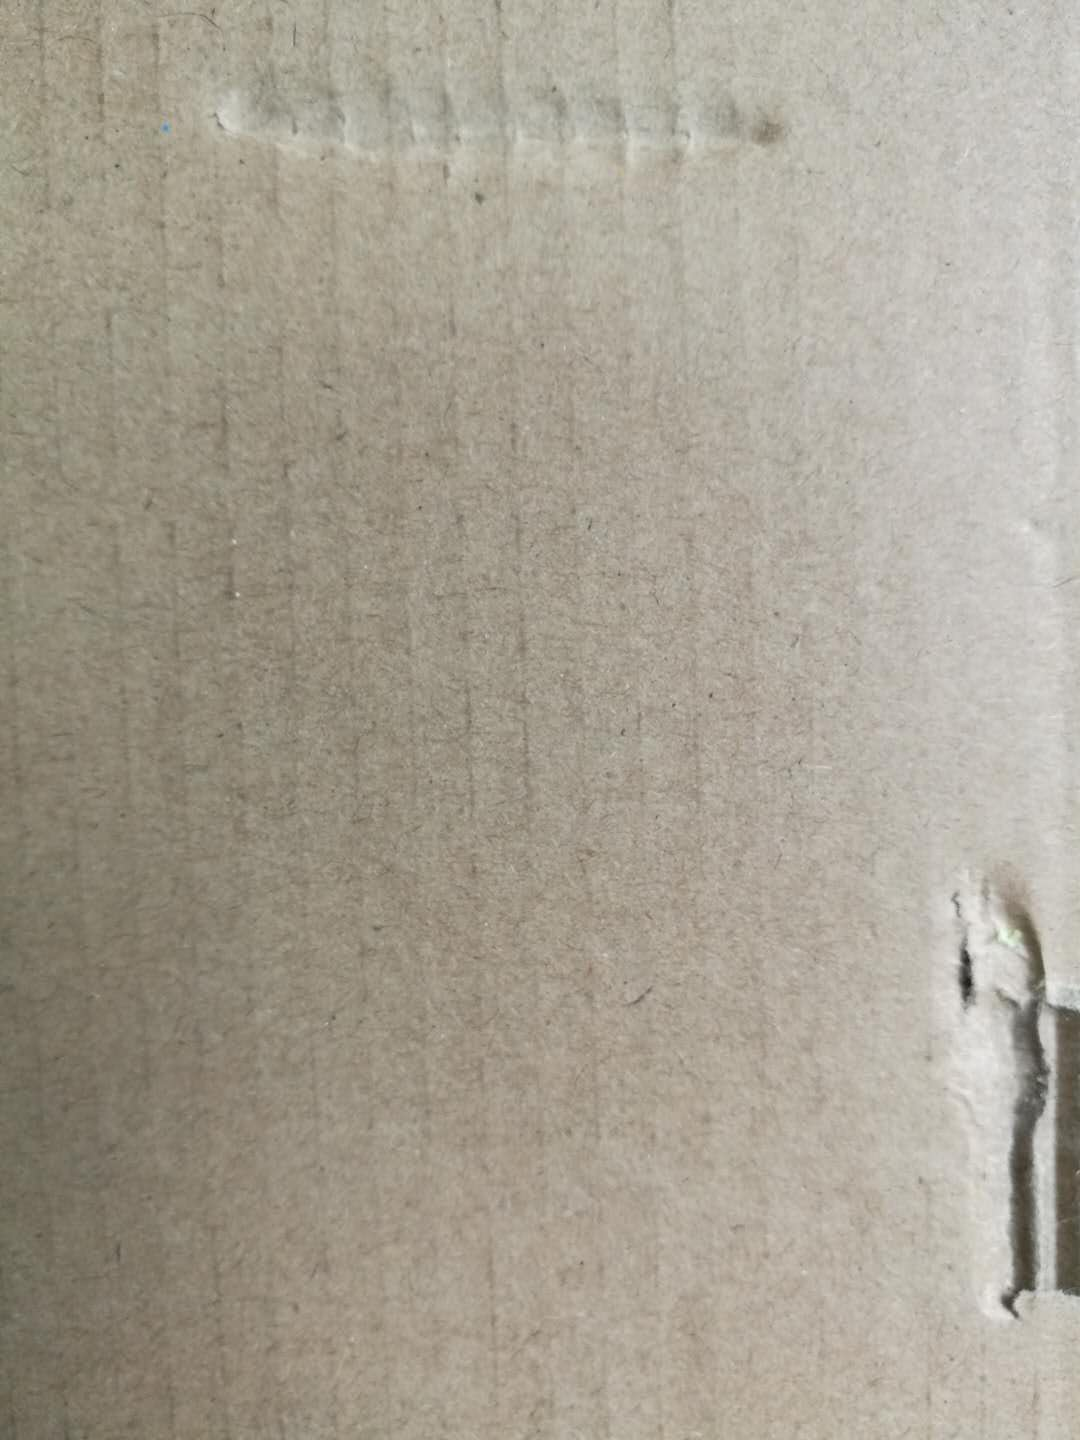defect: (186, 48, 832, 215), (891, 835, 1080, 1345)
